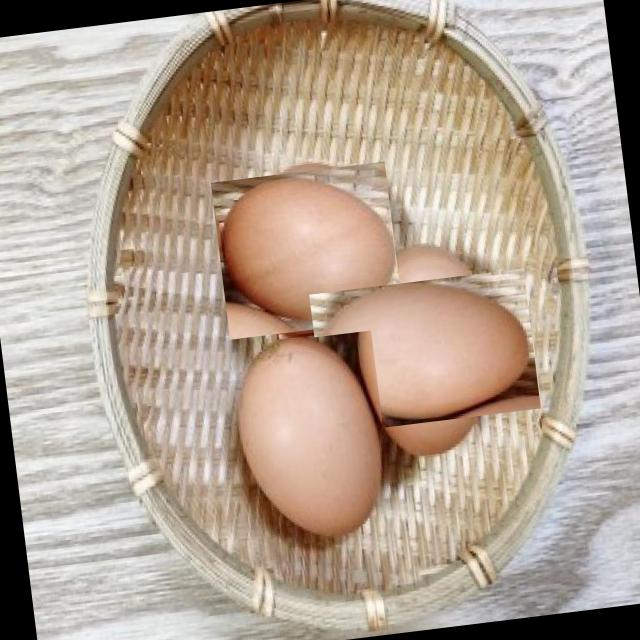eggs: (325, 252, 524, 450), (226, 330, 394, 544), (213, 157, 400, 343)
